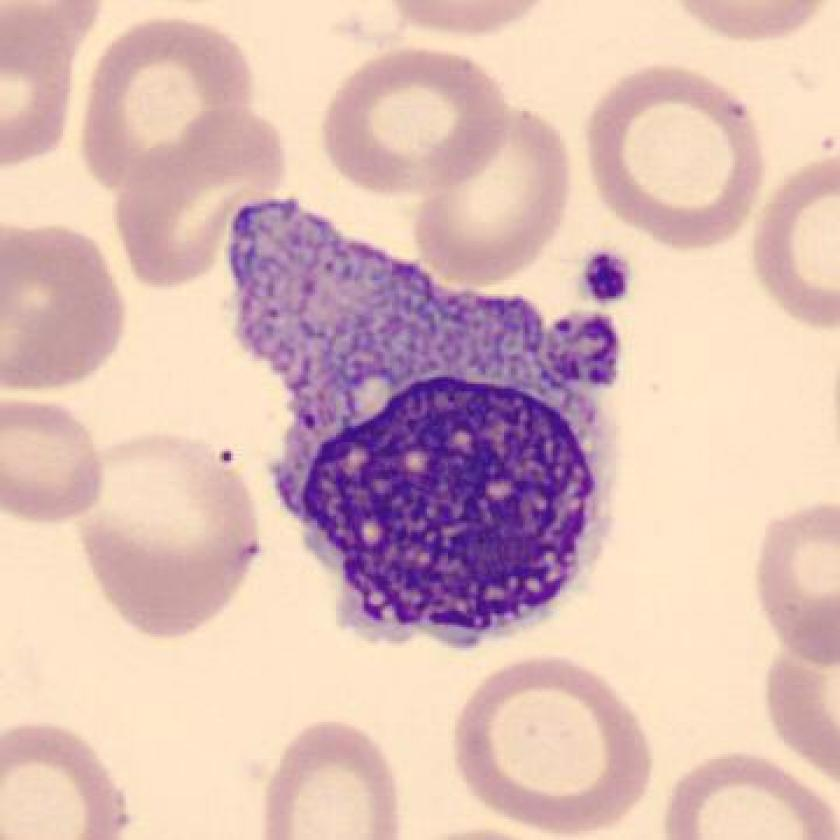monocyte: (209, 182, 657, 677)
